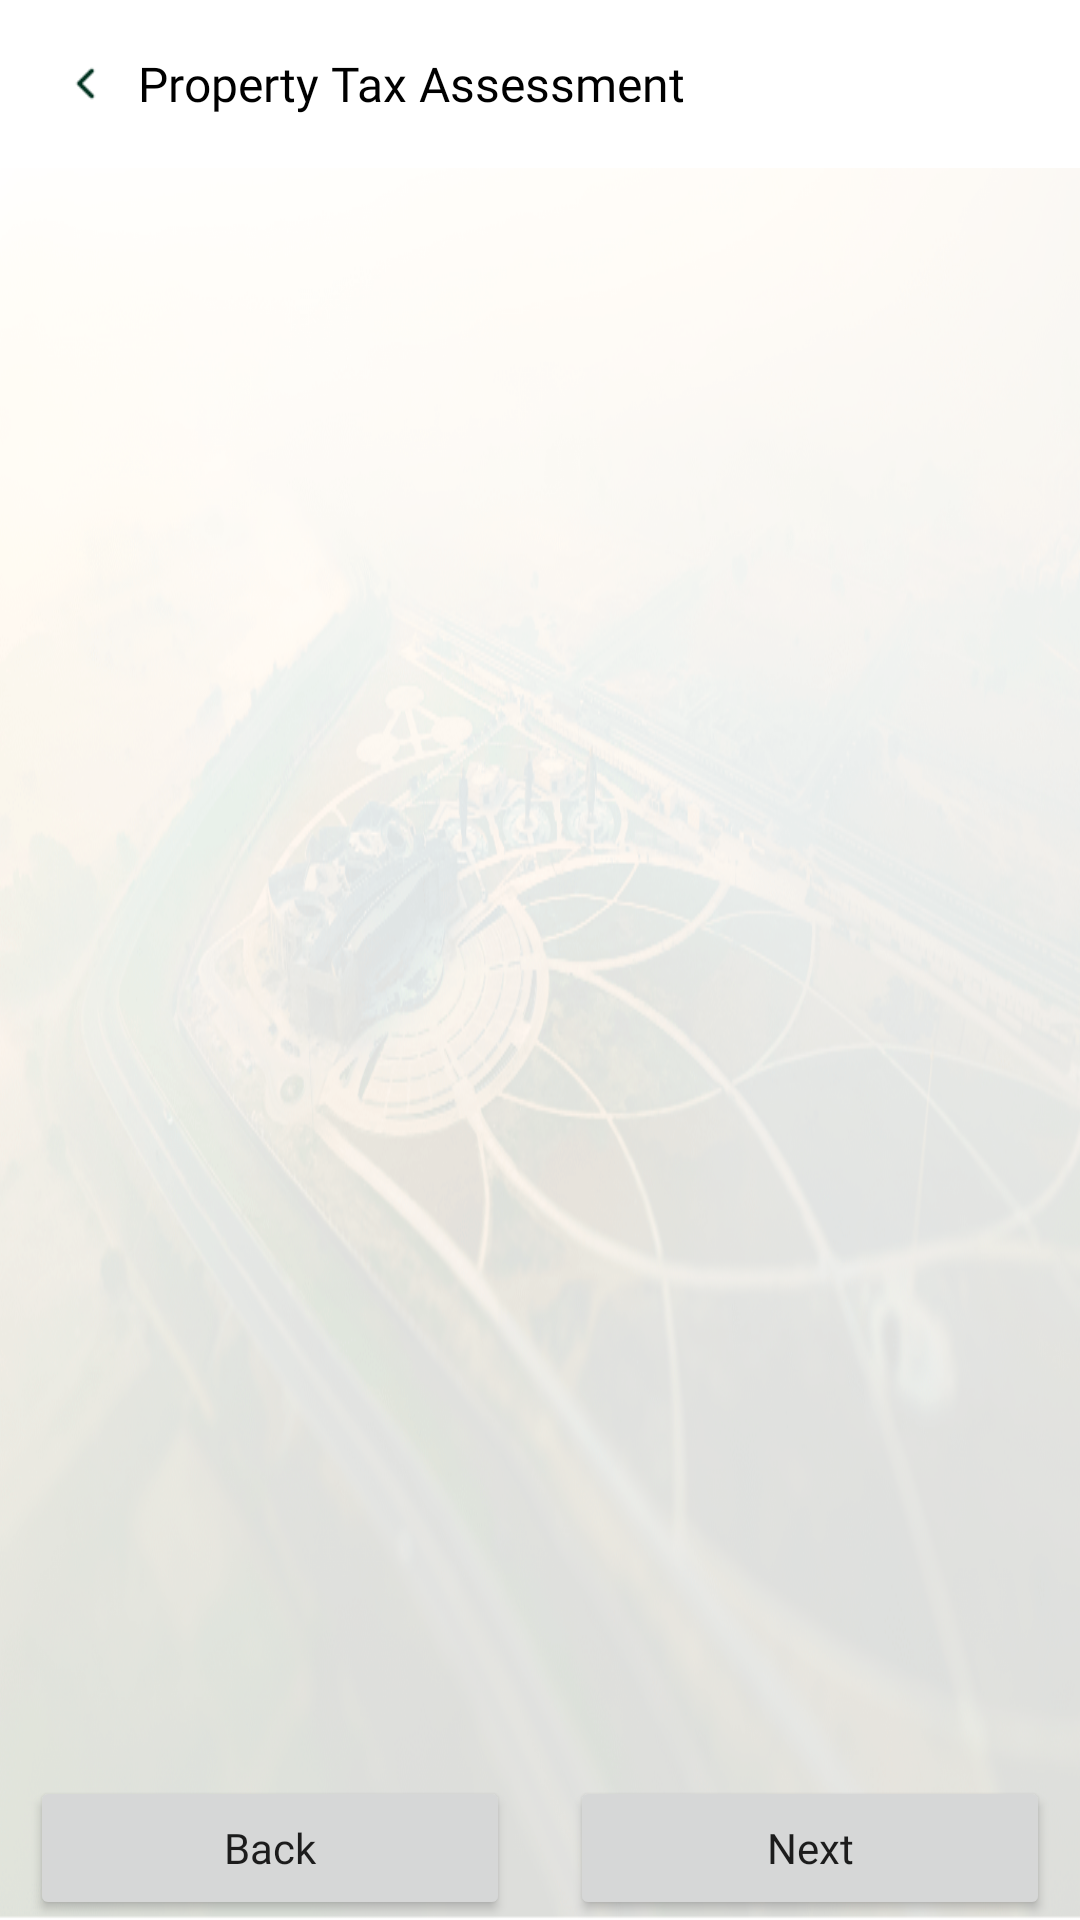

Where to tap for icons on this 1080px x 1920px app screen, as point (x, y):
left: point (85, 83)
